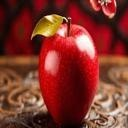apple: (38, 20, 99, 126)
